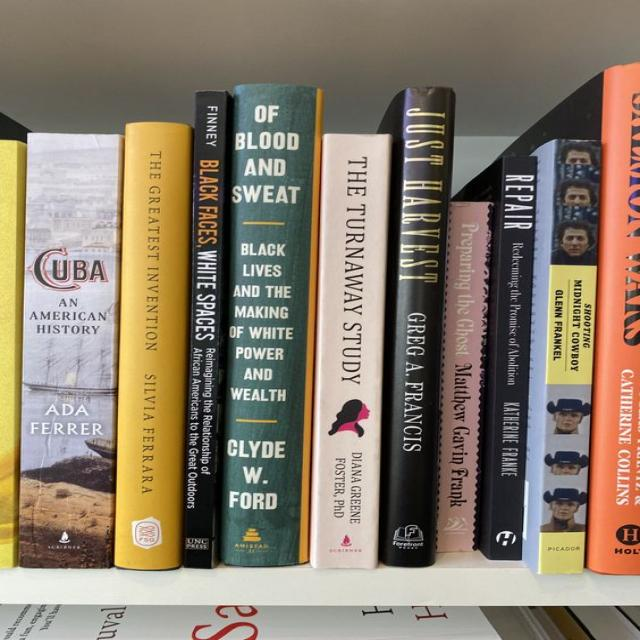book: (217, 82, 322, 568), (17, 132, 119, 567), (113, 121, 191, 571), (384, 88, 455, 567), (313, 134, 391, 569), (540, 138, 601, 572), (591, 65, 640, 572), (183, 90, 226, 569), (491, 154, 538, 560), (441, 201, 495, 550)
